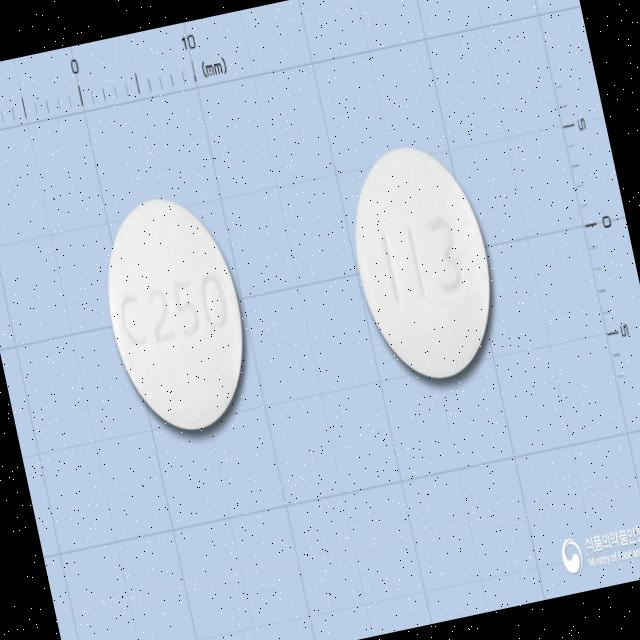Ciprofloxacin Hcl Tab- Ilyang: (328, 123, 518, 400), (88, 182, 270, 452)
